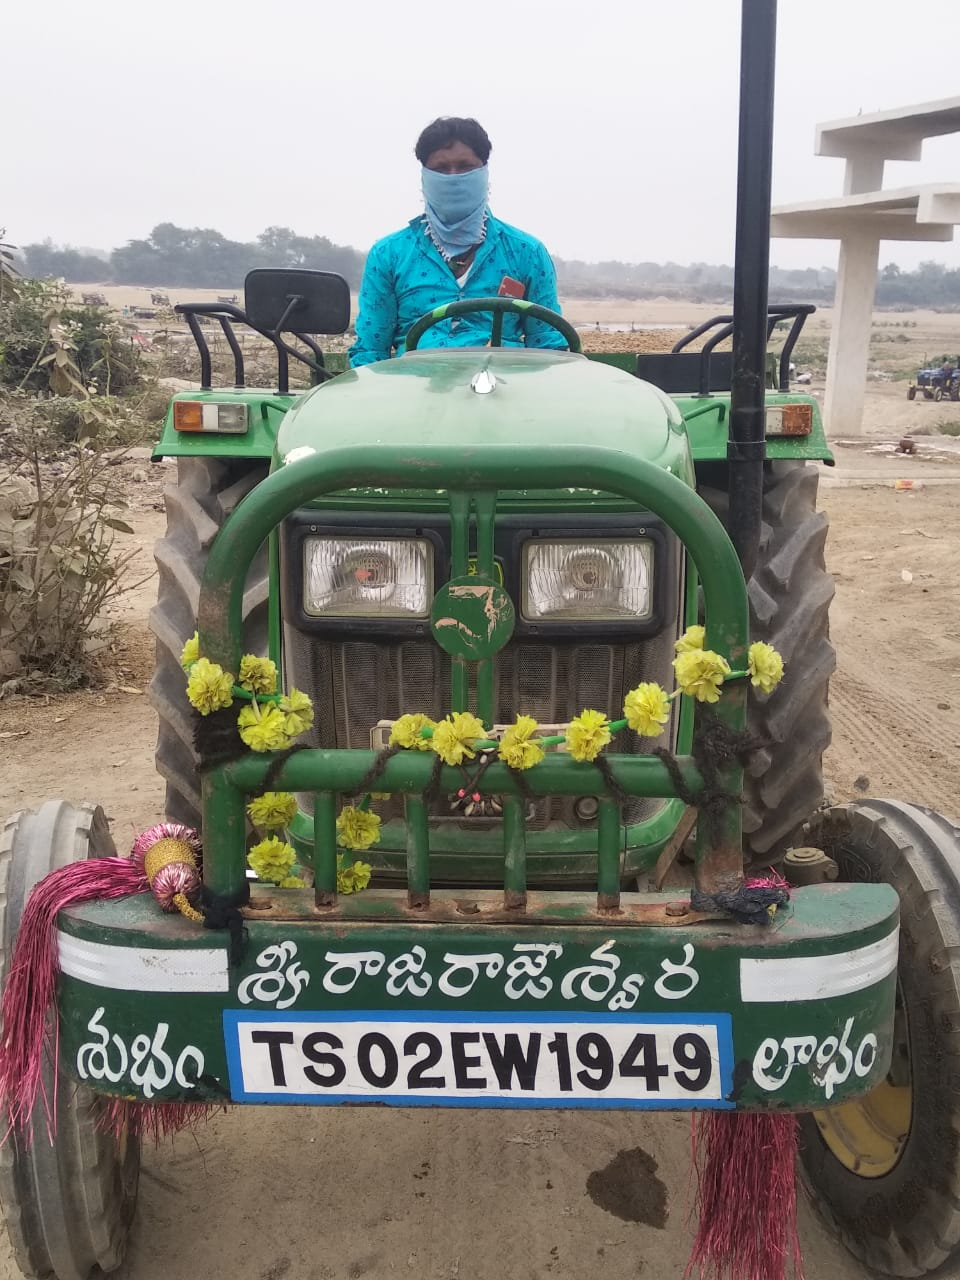license_plate: (227, 1015, 726, 1102)
